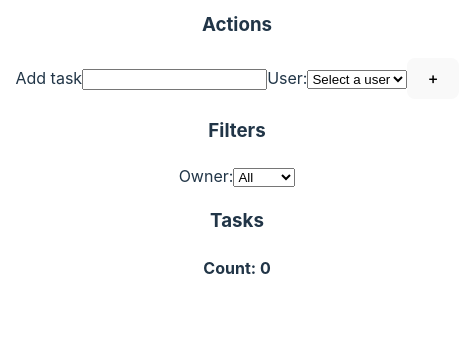
Scenario: Root Integration (view-model layer services) › should reflect changes when adding a task in all applicable views
The image size is (476, 359).
In the field labelled "Add task": coordinates (175, 80) [82,69,267,90], type "Paint house"
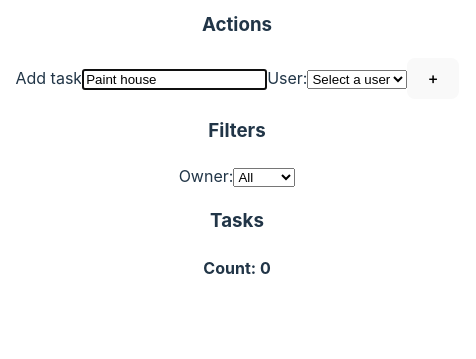
Select "User 1" in the dropdown labelled "User:": coordinates (358, 80) [308,70,408,89]
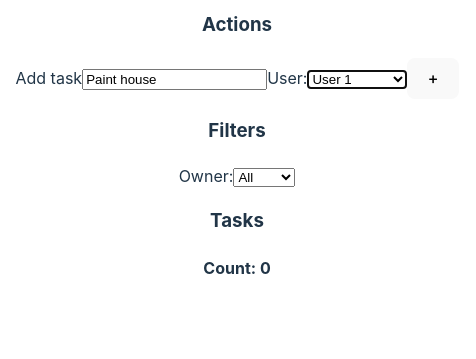
Click the button "+": coordinates (433, 78) [408,58,459,99]
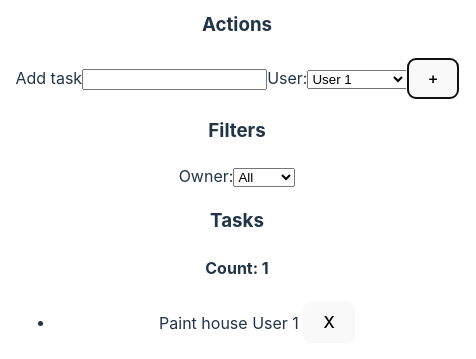
Check: the list item "Paint house User 1 X" is shown, box [159,302,355,343]
